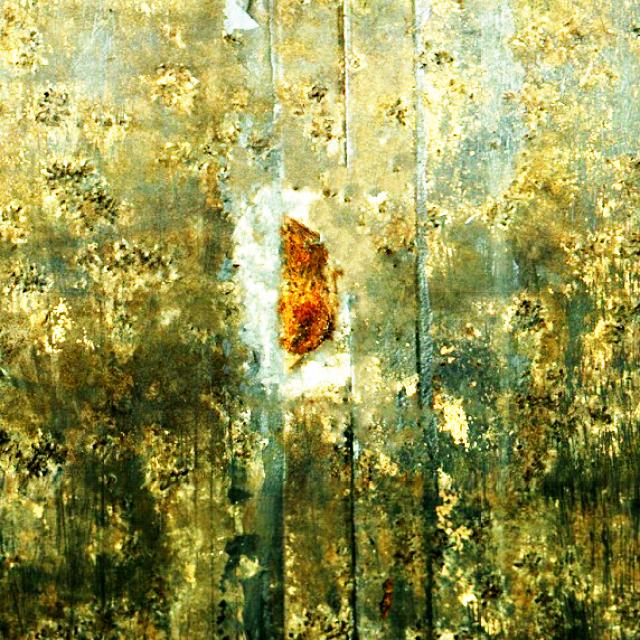Corrosion: (279, 217, 343, 369)
